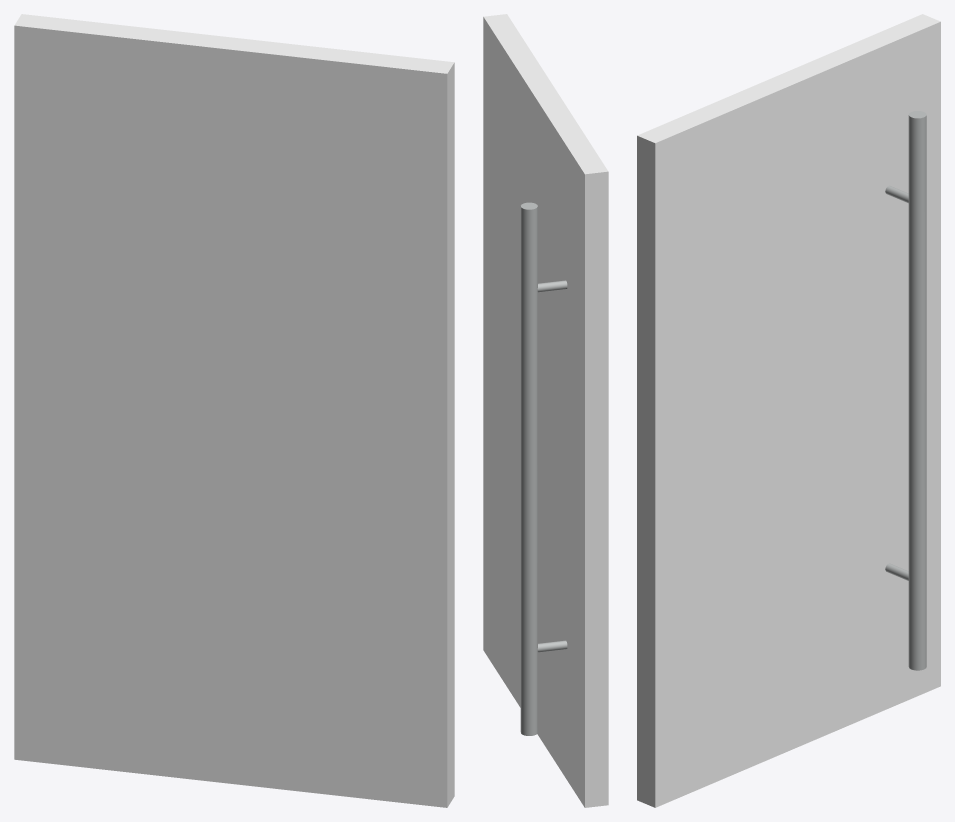
File: puerta_desp.fbx
3 renders of one model, left to right at view 1: azimuth 30°, elevation 25°; view 2: azimuth 150°, elevation 25°; view 3: azimuth 270°, elevation 25°, orthographic. The views are drawn at different scales.
Parts seen in each view (by area): view 1: puerta; view 2: puerta; view 3: puerta.
Part boxes in pixels (left/top/right/bottom): puerta: left=14, top=14, right=454, bottom=807; puerta: left=483, top=14, right=608, bottom=807; puerta: left=637, top=14, right=940, bottom=807.
Size of the model in its own units: 238 by 571 by 236.
2 materials, 2 textured.
